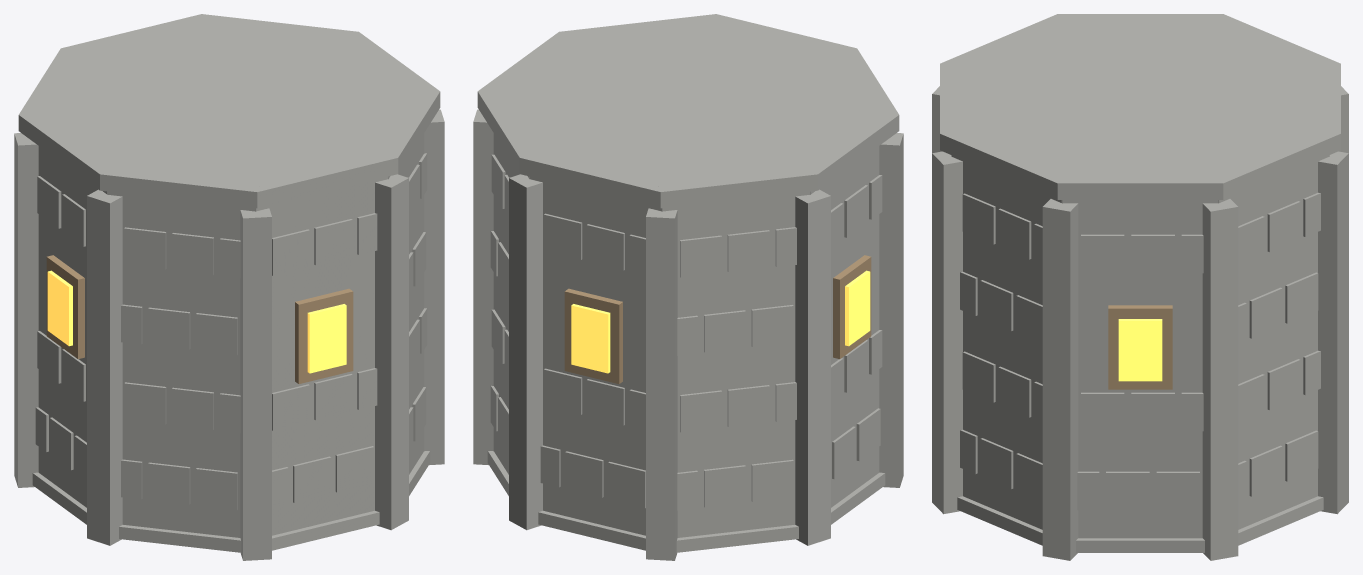
Rendered from wipe-day-survival-island-lighthouse-mid-stage-244f21e5__27501.glb.
3 views of the same model, side by side, from view 1: azimuth 30°, elevation 25°; view 2: azimuth 150°, elevation 25°; view 3: azimuth 270°, elevation 25° (orthographic).
Parts seen in each view (by area): view 1: lighthouse-mid-stage; view 2: lighthouse-mid-stage; view 3: lighthouse-mid-stage.
Part boxes in pixels (<box>): lighthouse-mid-stage: <box>14,14,444,560</box>; lighthouse-mid-stage: <box>473,14,903,560</box>; lighthouse-mid-stage: <box>932,14,1348,560</box>.
Size of the model in its own units: 3.63 by 3.6 by 3.63.
